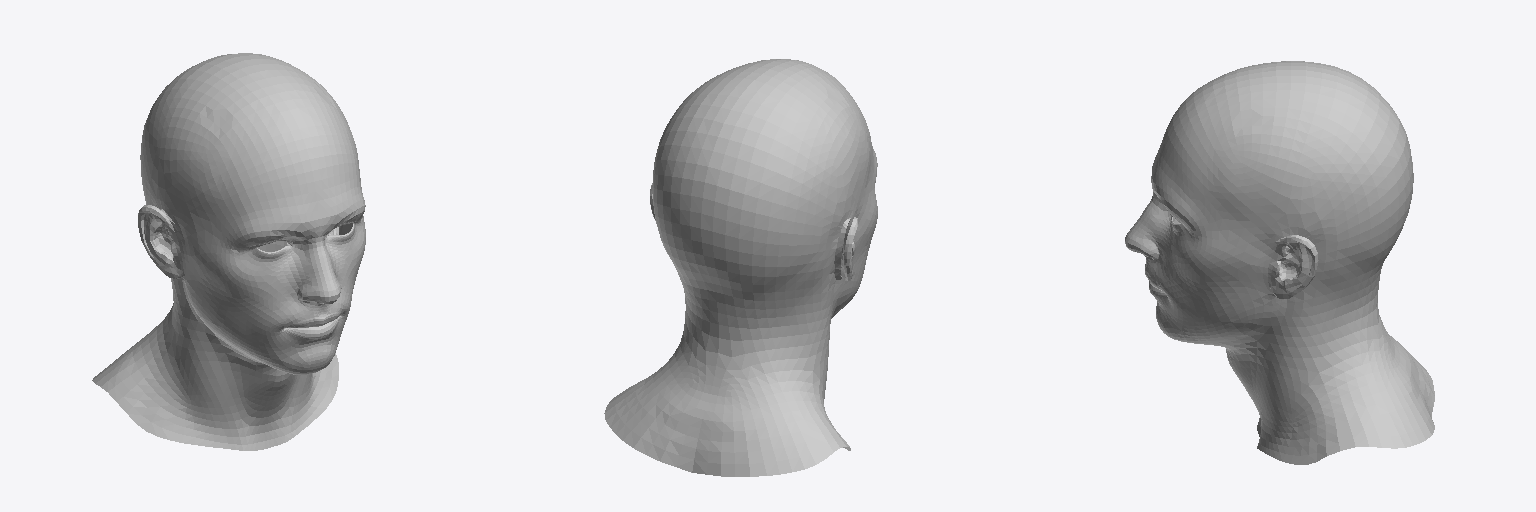
The model's file is neutral3.obj.
3 views of the same model, side by side, from view 1: azimuth 30°, elevation 25°; view 2: azimuth 150°, elevation 25°; view 3: azimuth 270°, elevation 25° (orthographic).
Visible parts, largest first — view 1: HeadBack, Face, NasolabialArea, Jaw, EyelidsLower, EyelidsUpper; view 2: HeadBack, Face, EarsBack; view 3: HeadBack, Face, NasolabialArea, Jaw, EyelidsLower.
Part boxes in pixels (x1,y1,x2,y2): HeadBack: (92,53,356,450); Face: (138,144,365,368); NasolabialArea: (262,269,351,329); Jaw: (262,306,350,374); EyelidsLower: (236,224,363,275); EyelidsUpper: (234,211,364,261); HeadBack: (604,59,869,476); Face: (650,112,877,311); EarsBack: (650,183,857,280); HeadBack: (1179,61,1434,464); Face: (1138,108,1317,342); NasolabialArea: (1125,220,1177,297); Jaw: (1149,281,1188,342); EyelidsLower: (1163,211,1192,252).
Size of the model in its own units: 2.94 by 4.72 by 3.57.